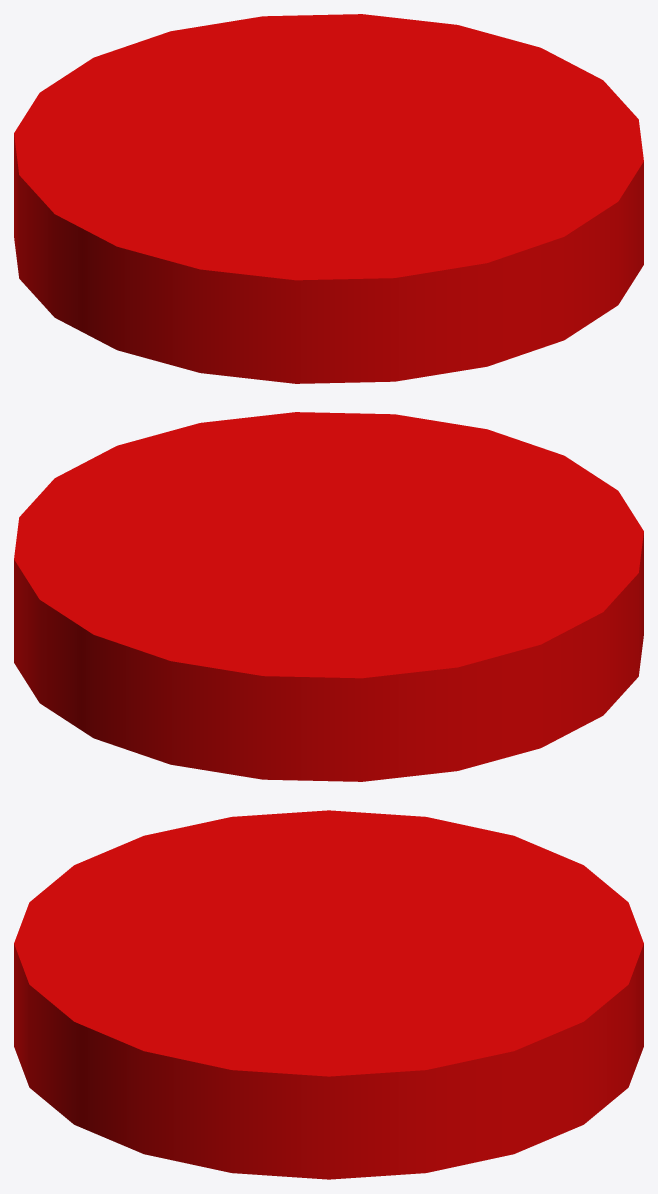
Rendered from Button 2.fbx.
3 views of the same model, one above another, from view 1: azimuth 30°, elevation 25°; view 2: azimuth 150°, elevation 25°; view 3: azimuth 270°, elevation 25° (orthographic).
Parts seen in each view (by area): view 1: polySurface37; view 2: polySurface37; view 3: polySurface37.
Boxes of the visible parts, left/top/right/bottom form: polySurface37: left=14, top=14, right=643, bottom=383; polySurface37: left=14, top=412, right=643, bottom=781; polySurface37: left=14, top=810, right=643, bottom=1179.
Size of the model in its own units: 1.43 by 0.2577 by 1.43.
